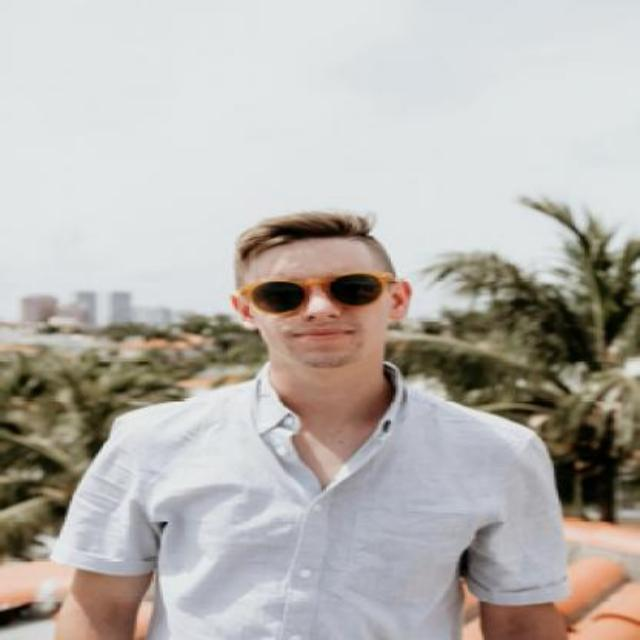sunglasses: (240, 272, 390, 312)
